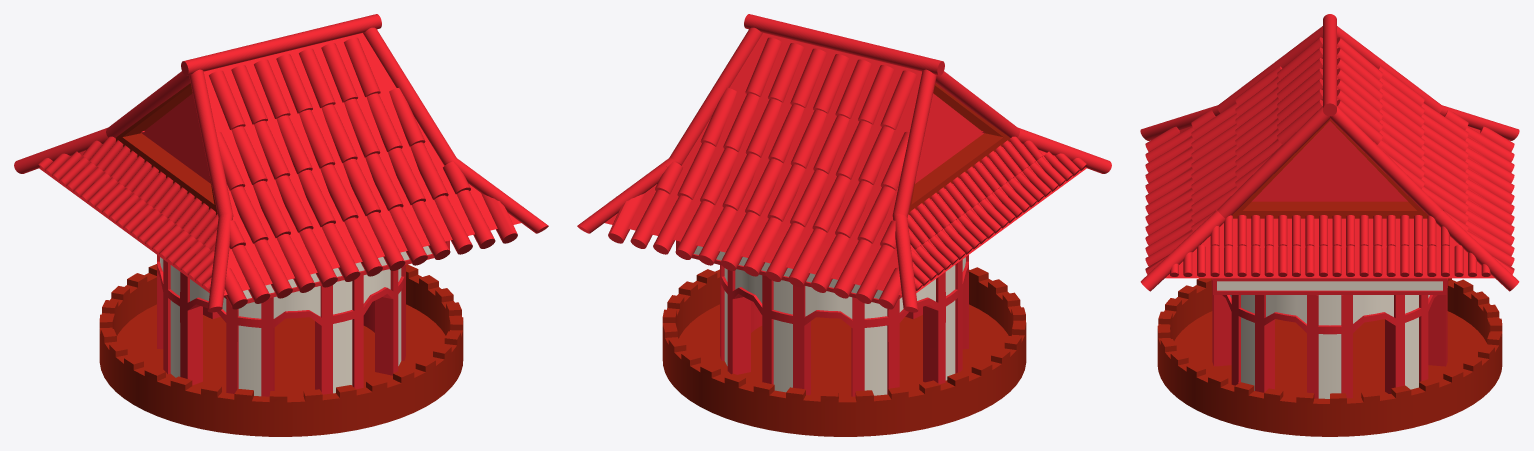
File: towerroof.fbx
3 renders of one model, left to right at view 1: azimuth 30°, elevation 25°; view 2: azimuth 150°, elevation 25°; view 3: azimuth 270°, elevation 25°, orthographic. The views are drawn at different scales.
Parts seen in each view (by area): view 1: TowerRoof; view 2: TowerRoof; view 3: TowerRoof.
Part boxes in pixels (x1,y1,x2,y2): TowerRoof: [14, 14, 548, 436]; TowerRoof: [577, 14, 1111, 436]; TowerRoof: [1140, 14, 1519, 436].
Bounding box in the file's own units: 954 × 863 × 971.
